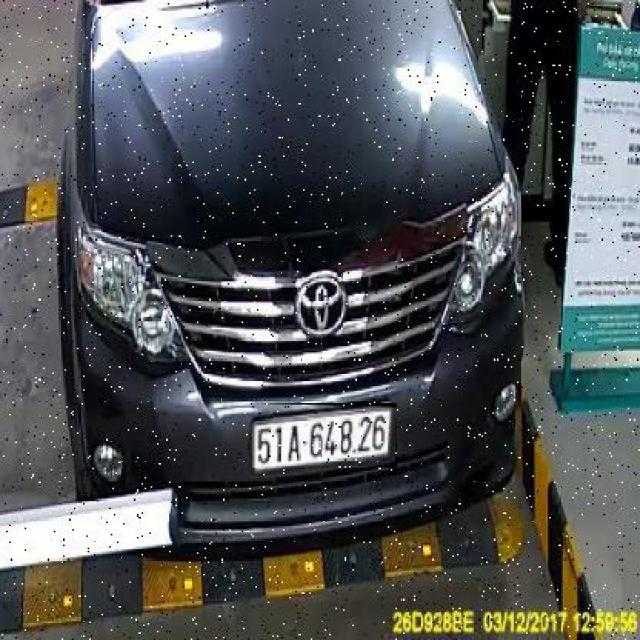number_plate: (248, 403, 398, 468)
